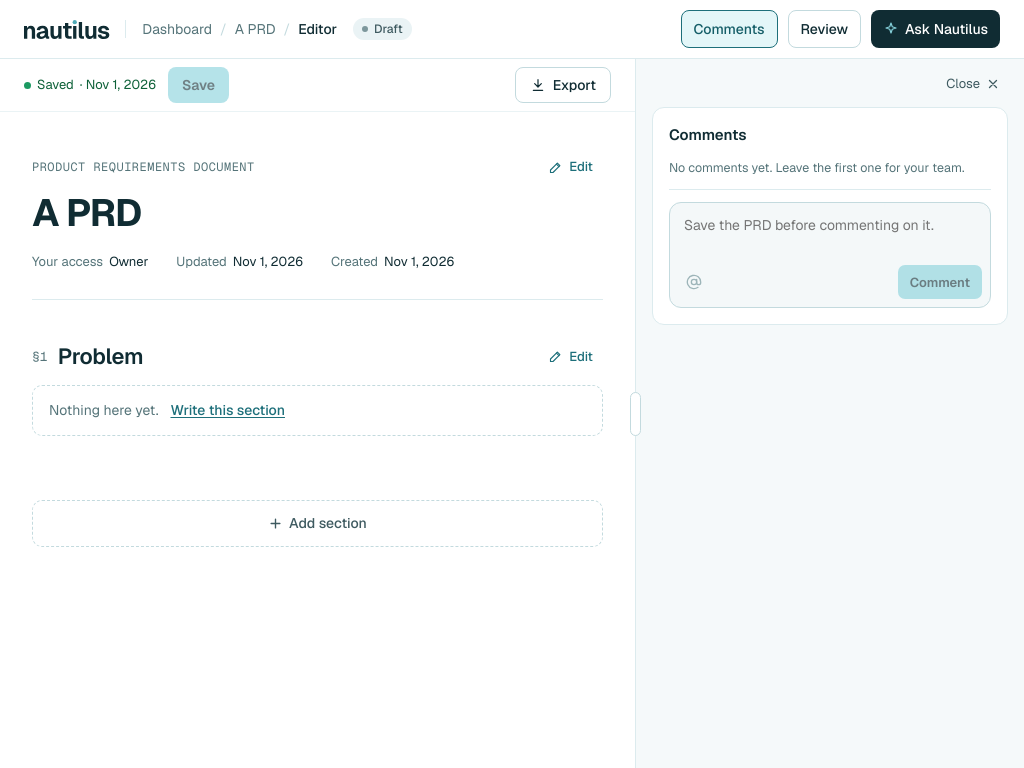
the side panel › closes from its own Close button
Click the button with aria-label "Close Comments": [973, 84] box [936,69,1010,99]
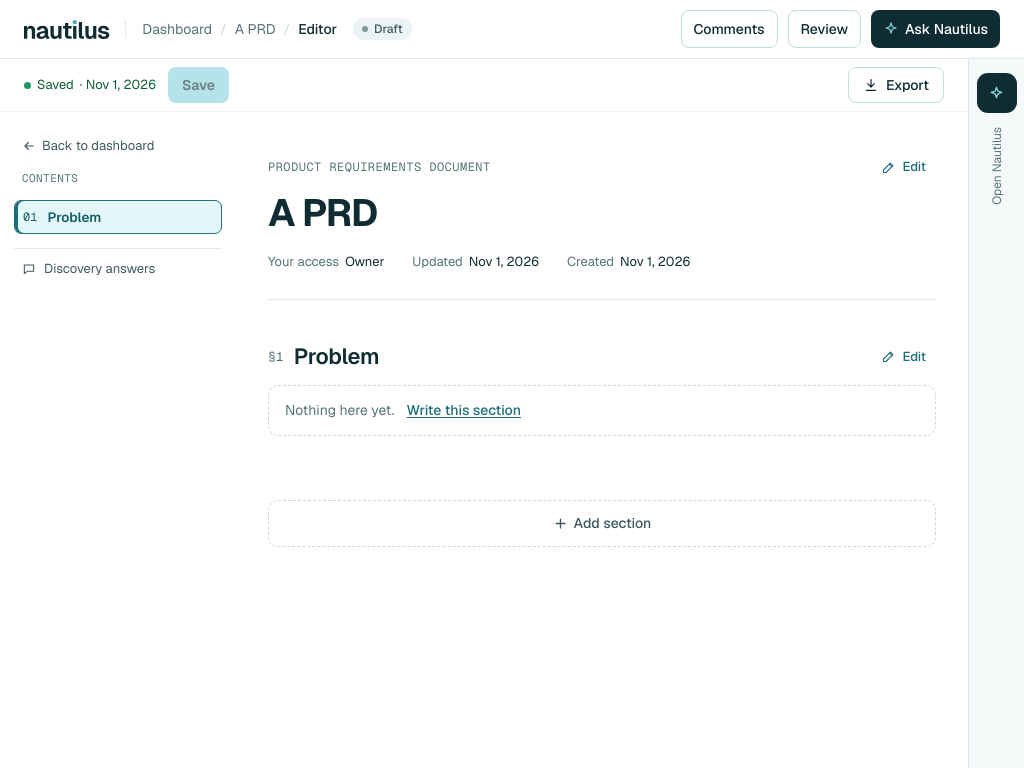
Expected: the element with class "ne-panel" is gone
